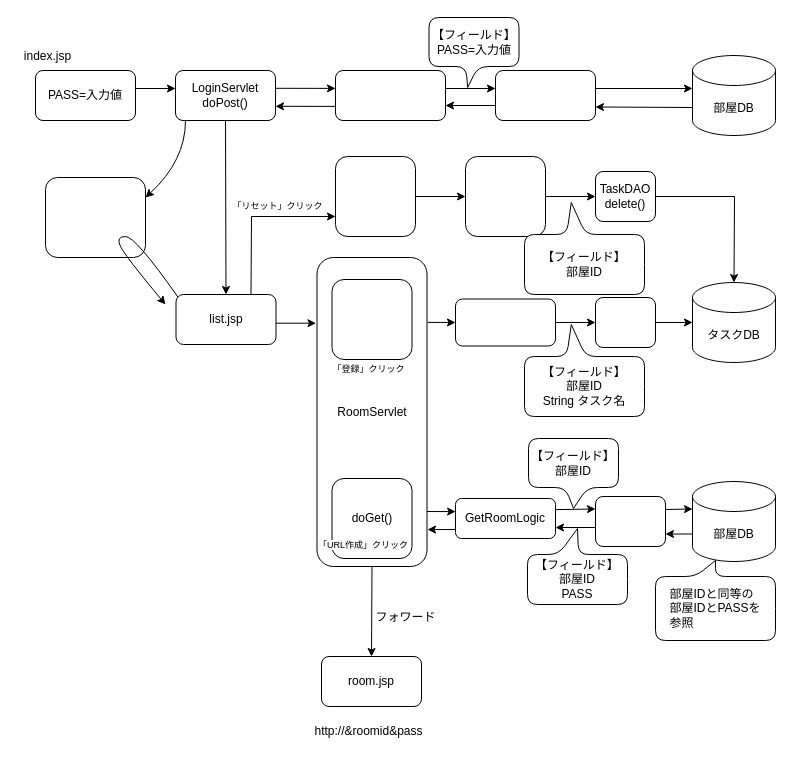
Image size: 793x759. Some labels were removed from this diagram. Each missing label, with the box of its shape:
doPost(): (331, 278, 412, 360)
GetTask DeleteLogic: (464, 156, 546, 236)
PostRoomListLogic: (334, 70, 446, 120)
PostTaskLogic: (454, 298, 556, 346)
RoomDAO create(): (494, 70, 596, 120)
RoomDAO find(): (594, 496, 666, 546)
sessionスコープ "部屋ID": (44, 176, 146, 258)
TaskDAO create(): (594, 296, 656, 348)
TaskDelete Servlet doGet(): (334, 156, 416, 236)
